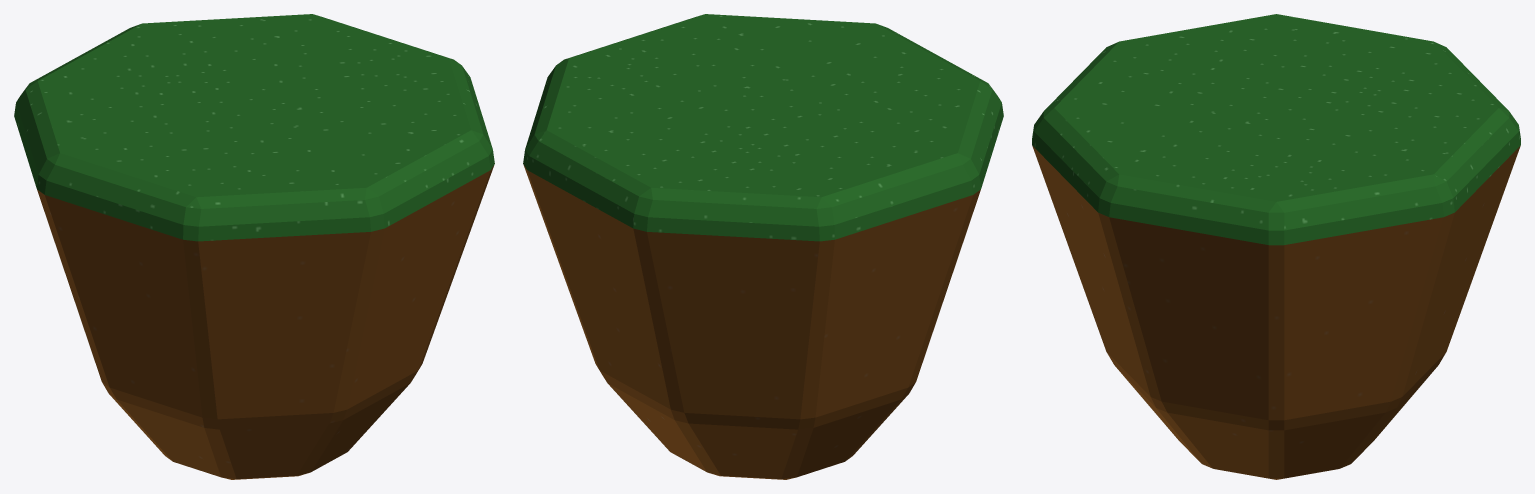
Rendered from platform1.fbx.
3 renders of one model, left to right at view 1: azimuth 30°, elevation 25°; view 2: azimuth 150°, elevation 25°; view 3: azimuth 270°, elevation 25°, orthographic.
Parts seen in each view (by area): view 1: Cylinder.001, Cylinder; view 2: Cylinder.001, Cylinder; view 3: Cylinder.001, Cylinder.
Part boxes in pixels (x1,y1,x2,y2): Cylinder.001: (14,14,494,241); Cylinder: (37,165,494,479); Cylinder.001: (523,14,1003,241); Cylinder: (523,165,980,479); Cylinder.001: (1032,14,1520,245); Cylinder: (1032,146,1520,479).
Bounding box in the file's own units: 506 × 383 × 506.
